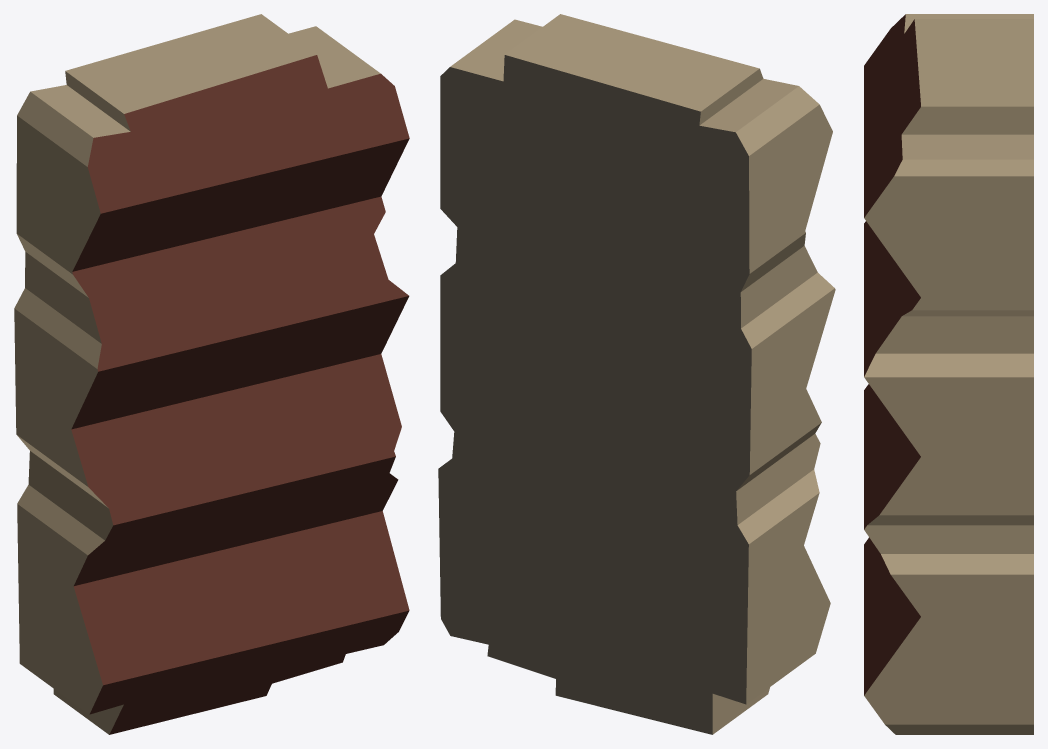
The model's file is SM_GLMedieval_NorthMarketMassing_east_0a73564b.obj.
The picture shows the model from 3 angles, left to right: view 1: azimuth 30°, elevation 25°; view 2: azimuth 150°, elevation 25°; view 3: azimuth 270°, elevation 25°; orthographic projection.
Bounding box in the file's own units: 26.31 × 50.48 × 12.2.
